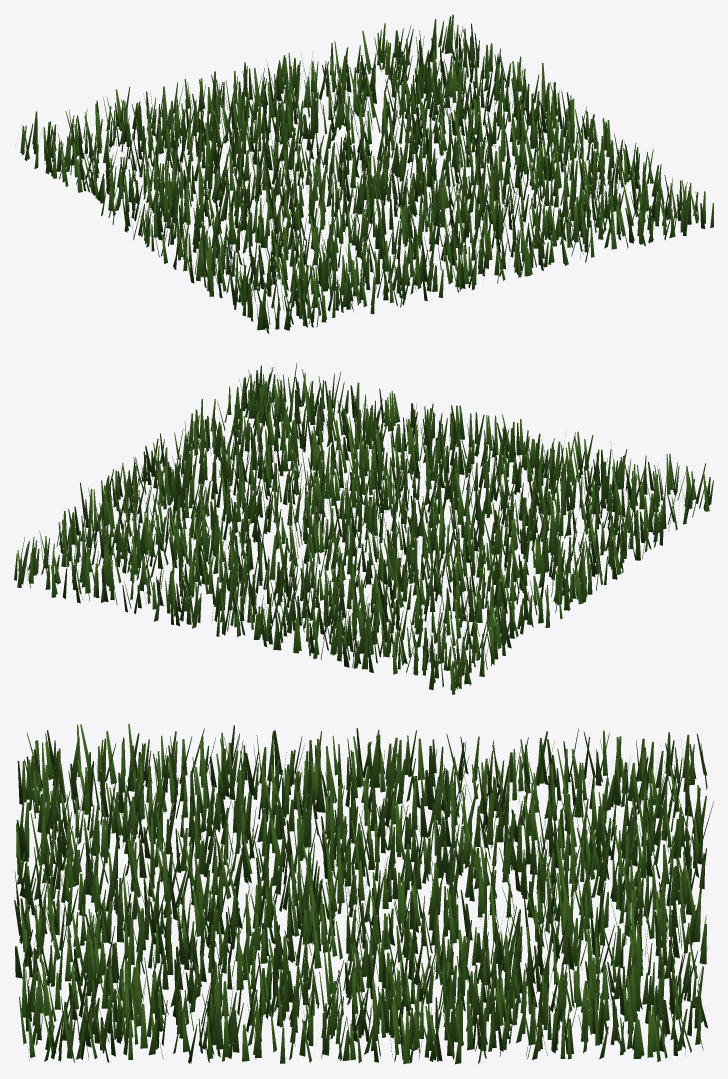
Rendered from Turf_Lawn_v0.glb.
The picture shows the model from 3 angles, top to bottom: view 1: azimuth 30°, elevation 25°; view 2: azimuth 150°, elevation 25°; view 3: azimuth 270°, elevation 25°; orthographic projection. The views are drawn at different scales.
Parts seen in each view (by area): view 1: Turf_Lawn_v0; view 2: Turf_Lawn_v0; view 3: Turf_Lawn_v0.
Boxes of the visible parts, left/top/right/bottom form: Turf_Lawn_v0: left=20, top=14, right=713, bottom=333; Turf_Lawn_v0: left=14, top=363, right=713, bottom=694; Turf_Lawn_v0: left=14, top=723, right=713, bottom=1064.
Bounding box in the file's own units: 1.24 × 0.1 × 1.24.
